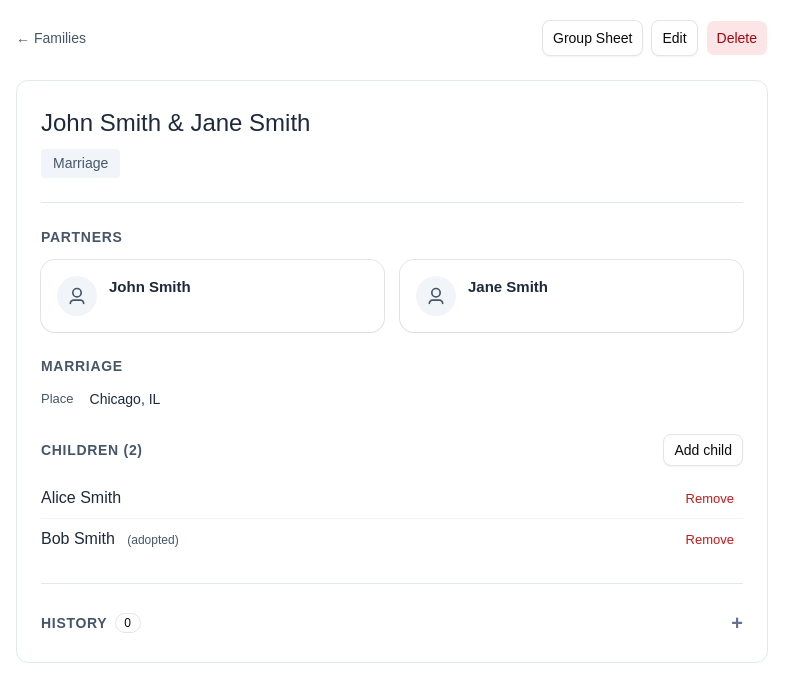
Test: Family Detail Page: partners and children (#826) › leaves edit mode on Escape without asking when nothing changed
Expected: the heading "John Smith & Jane Smith" is shown, [41,109,310,136]
Click the button "Edit".
click(674, 38)  # box [651,20,698,56]
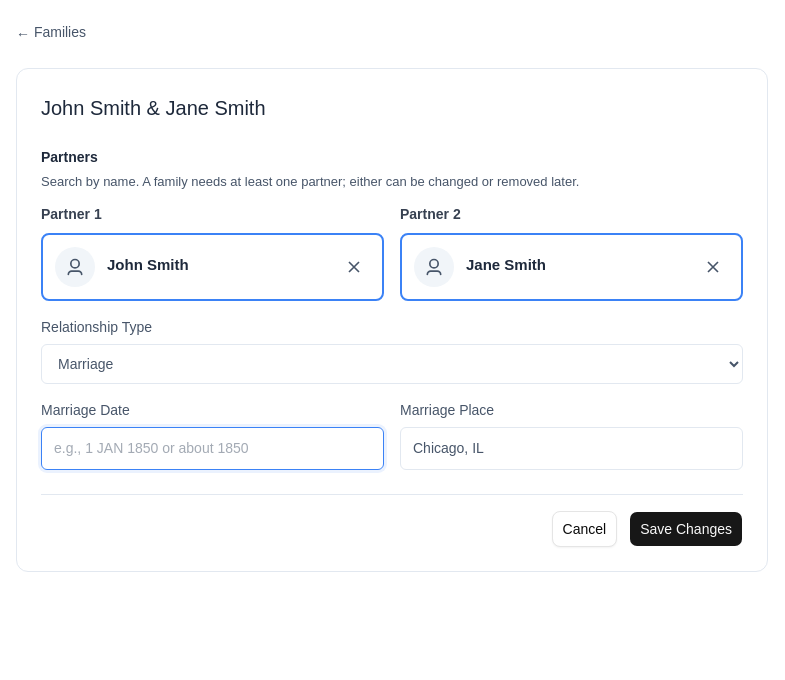
Press Escape in the field labelled "Marriage Date", box [41,426,384,470]
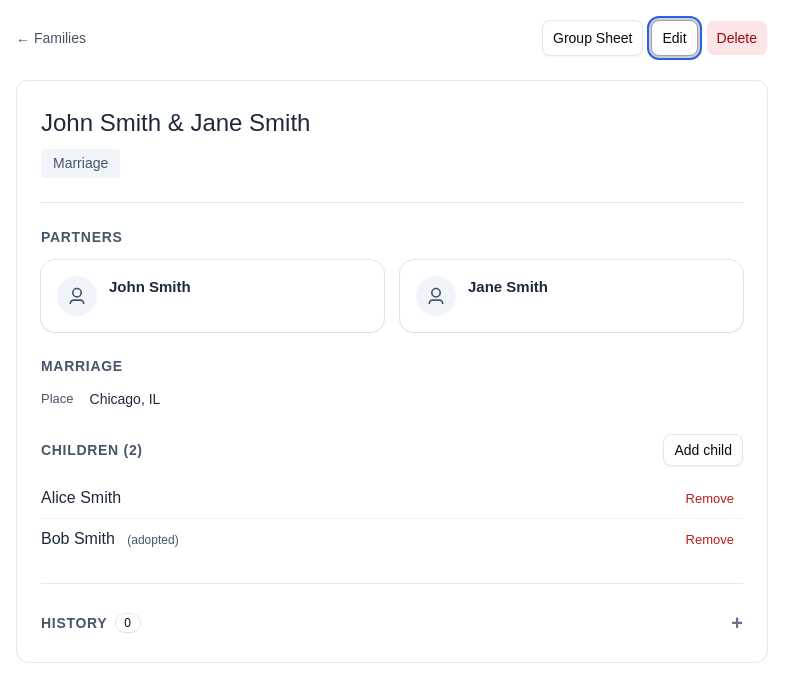
Result: the label labelled "Marriage Date" is gone
